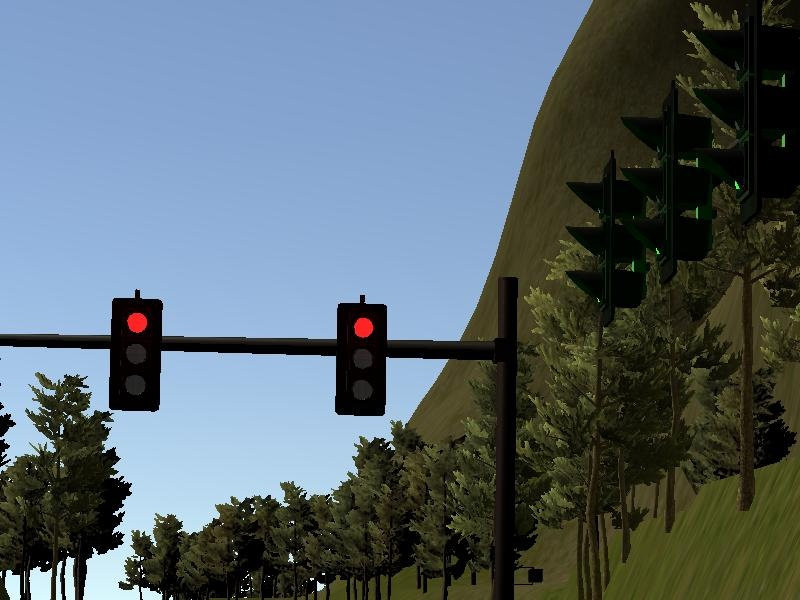RED: (107, 299, 161, 410), (333, 304, 387, 415)
